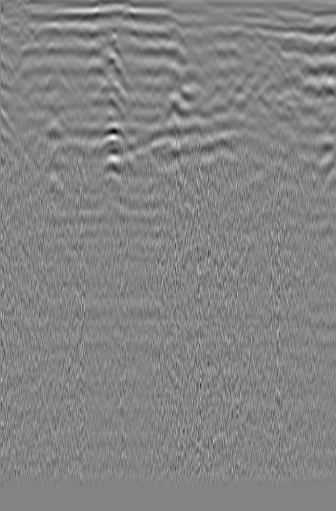가스: (96, 122, 131, 150)
상수: (9, 19, 39, 49)
오수: (306, 32, 332, 61)
우수: (160, 25, 188, 48)
